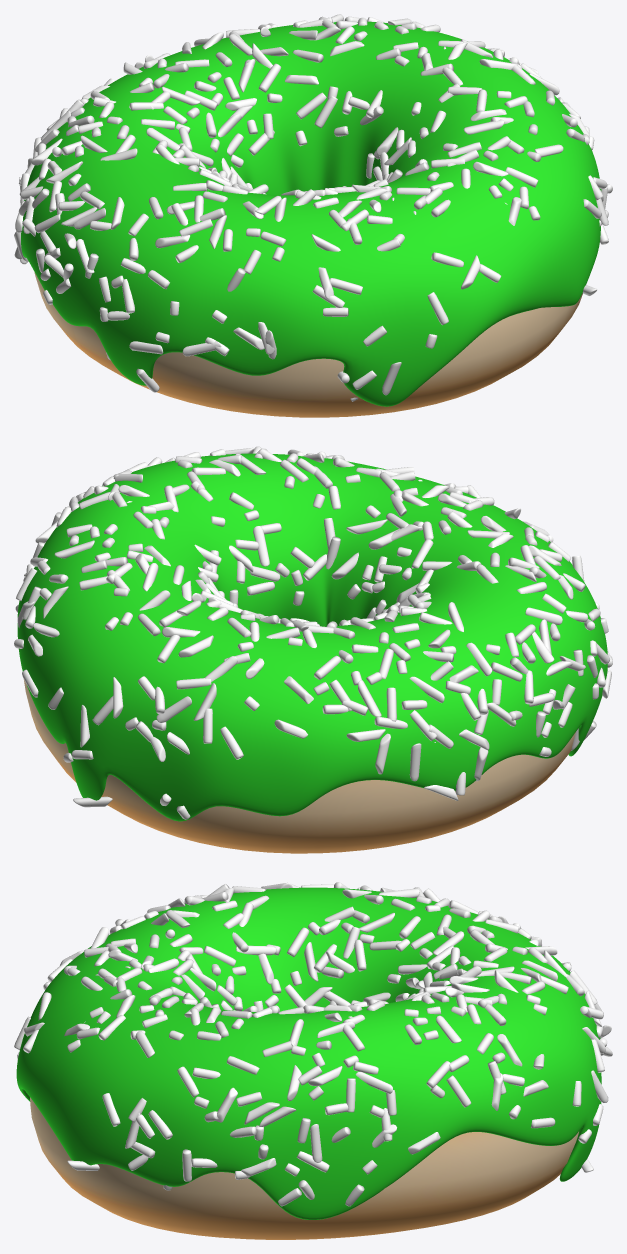
Rendered from DONUT_v3.glb.
3 views of the same model, one above another, from view 1: azimuth 30°, elevation 25°; view 2: azimuth 150°, elevation 25°; view 3: azimuth 270°, elevation 25° (orthographic). The views are drawn at different scales.
Visible parts, largest first — view 1: Icing.001, Donut.001; view 2: Icing.001, Donut.001; view 3: Icing.001, Donut.001.
Part boxes in pixels (x1,y1,x2,y2): Icing.001: (21, 21, 601, 406); Donut.001: (34, 272, 582, 417); Icing.001: (17, 453, 607, 821); Donut.001: (23, 679, 575, 853); Icing.001: (16, 887, 601, 1219); Donut.001: (30, 1097, 578, 1239).
Size of the model in its own units: 0.1236 by 0.0555 by 0.1269.
3 materials, 1 textured.
